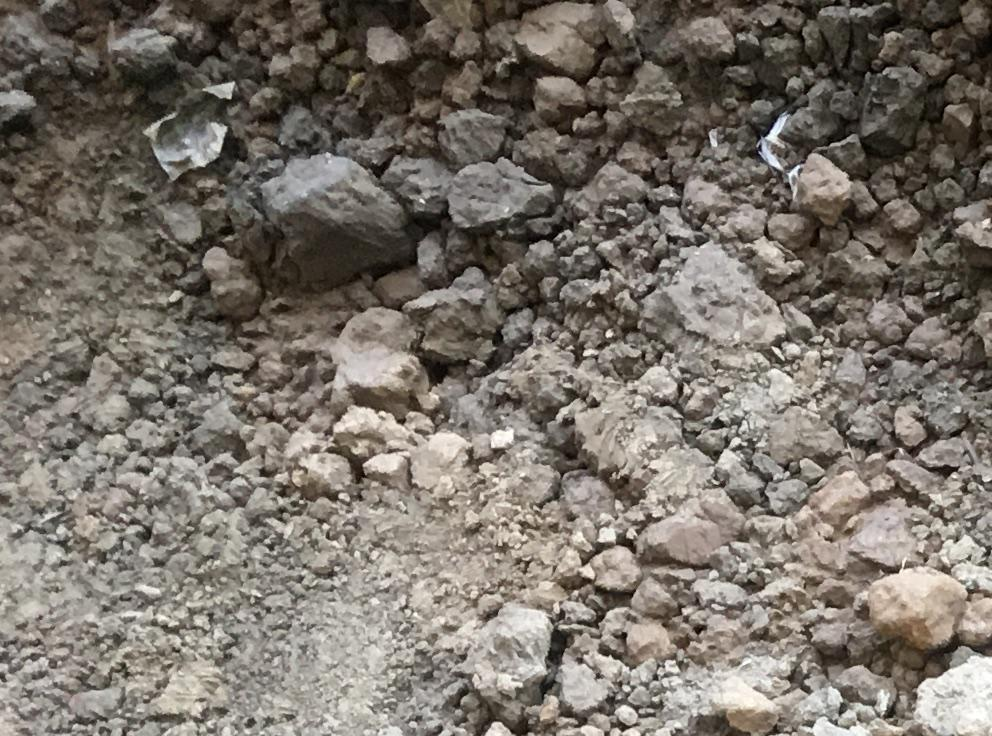block: (265, 147, 409, 274), (473, 595, 560, 724), (869, 558, 967, 656), (439, 158, 555, 237)
